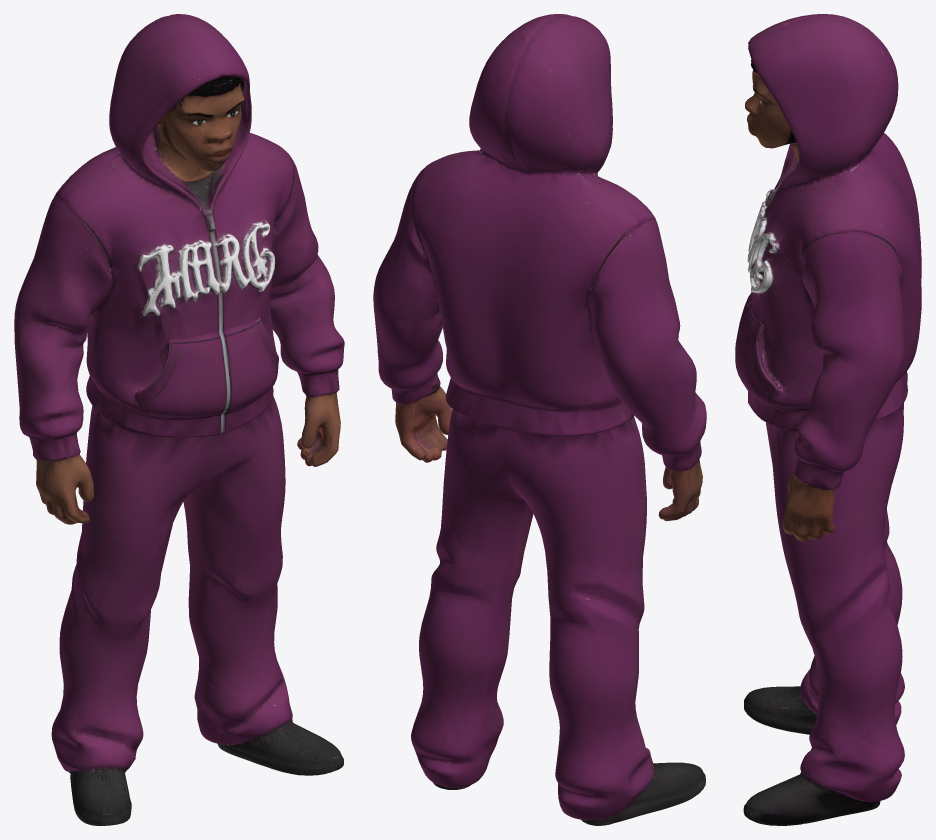
Rendered from huncho.glb.
3 renders of one model, left to right at view 1: azimuth 30°, elevation 25°; view 2: azimuth 150°, elevation 25°; view 3: azimuth 270°, elevation 25°, orthographic.
Visible parts, largest first — view 1: Mesh_0; view 2: Mesh_0; view 3: Mesh_0.
Part boxes in pixels (bbox=[...]): Mesh_0: bbox=[14, 14, 344, 825]; Mesh_0: bbox=[373, 14, 706, 825]; Mesh_0: bbox=[735, 14, 921, 825].
Size of the model in its own units: 0.8277 by 1.91 by 0.4298.
1 material, 1 textured.
